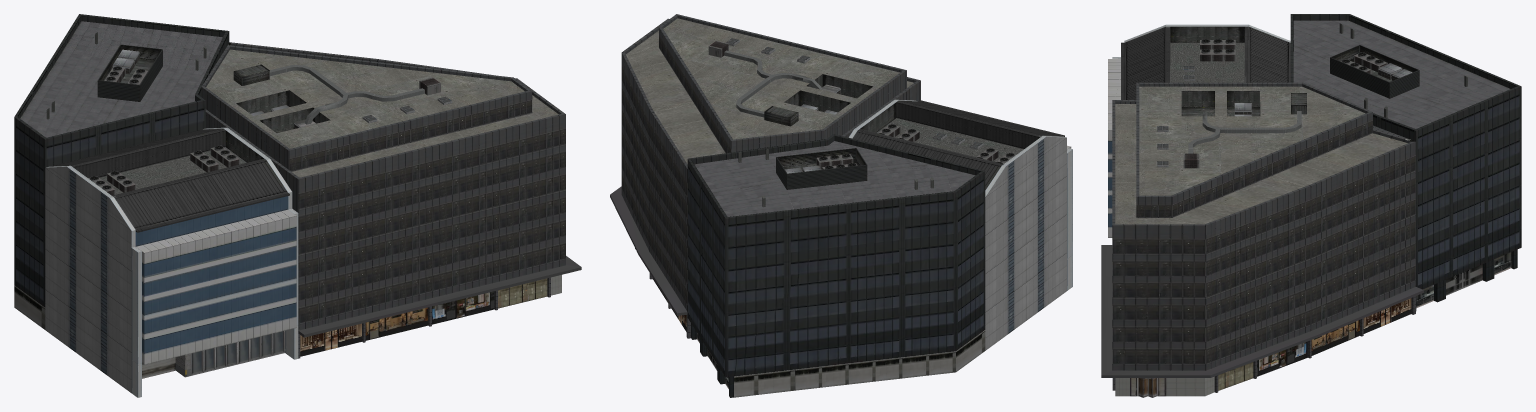
Rendered from office6.glb.
3 renders of one model, left to right at view 1: azimuth 30°, elevation 25°; view 2: azimuth 150°, elevation 25°; view 3: azimuth 270°, elevation 25°, orthographic. The views are drawn at different scales.
Parts seen in each view (by area): view 1: Plane001_b_ind_W2W5_t2_l1_0; view 2: Plane001_b_ind_W2W5_t2_l1_0; view 3: Plane001_b_ind_W2W5_t2_l1_0.
Part boxes in pixels (x1=…): Plane001_b_ind_W2W5_t2_l1_0: x1=14, y1=14, x2=581, y2=397; Plane001_b_ind_W2W5_t2_l1_0: x1=610, y1=14, x2=1072, y2=397; Plane001_b_ind_W2W5_t2_l1_0: x1=1101, y1=14, x2=1521, y2=397.
Bounding box in the file's own units: 6551 × 2923 × 5662.
Materials: 1 (1 with a texture image).
